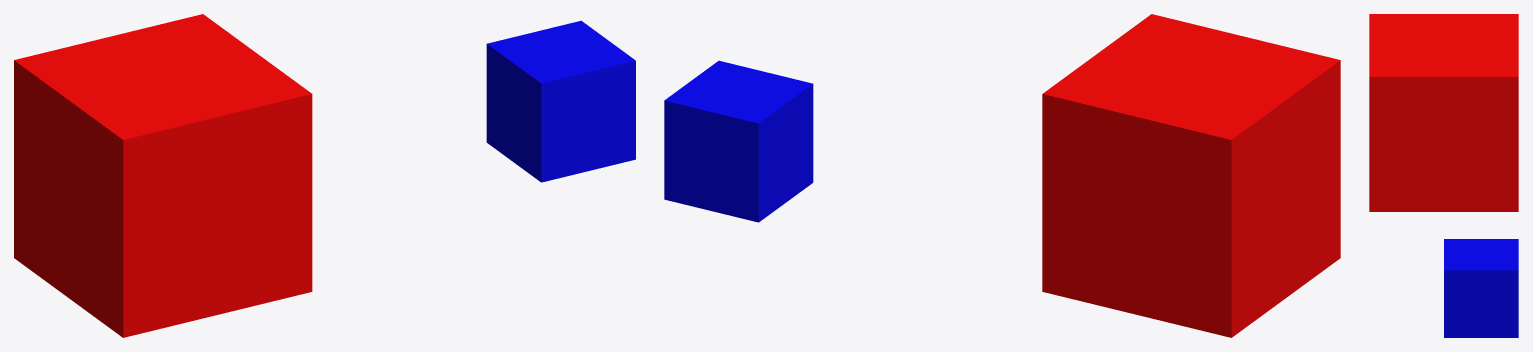
The model's file is color_mtl.obj.
3 renders of one model, left to right at view 1: azimuth 30°, elevation 25°; view 2: azimuth 150°, elevation 25°; view 3: azimuth 270°, elevation 25°, orthographic. The views are drawn at different scales.
Parts seen in each view (by area): view 1: cube0, cube1; view 2: cube0, cube1; view 3: cube0, cube1.
Boxes of the visible parts, bbox=[...] form: cube0: bbox=[14, 14, 312, 337]; cube1: bbox=[486, 20, 635, 182]; cube0: bbox=[1042, 14, 1340, 337]; cube1: bbox=[664, 60, 813, 222]; cube0: bbox=[1369, 14, 1518, 211]; cube1: bbox=[1444, 239, 1518, 337].
Bounding box in the file's own units: 6 × 2 × 2.
